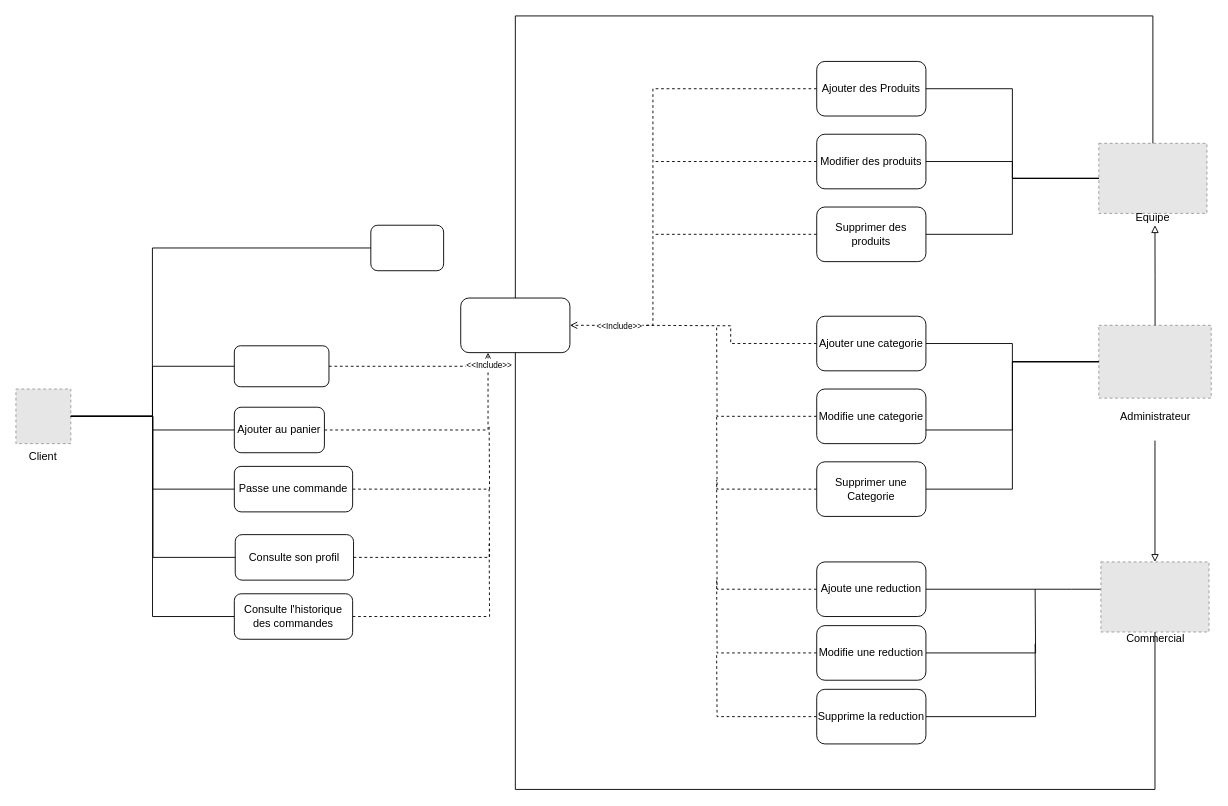
The diagram is 1228 pixels wide and 806 high, and some of its shapes have lost their labels. Grey dashed boxes stand in for pictures. The box of each missing label's shape, as (x1, y1, x2, y2) in pixels:
Connexion: (460, 297, 570, 353)
Consulte le catalogue: (233, 345, 329, 387)
Inscription: (370, 224, 444, 271)
